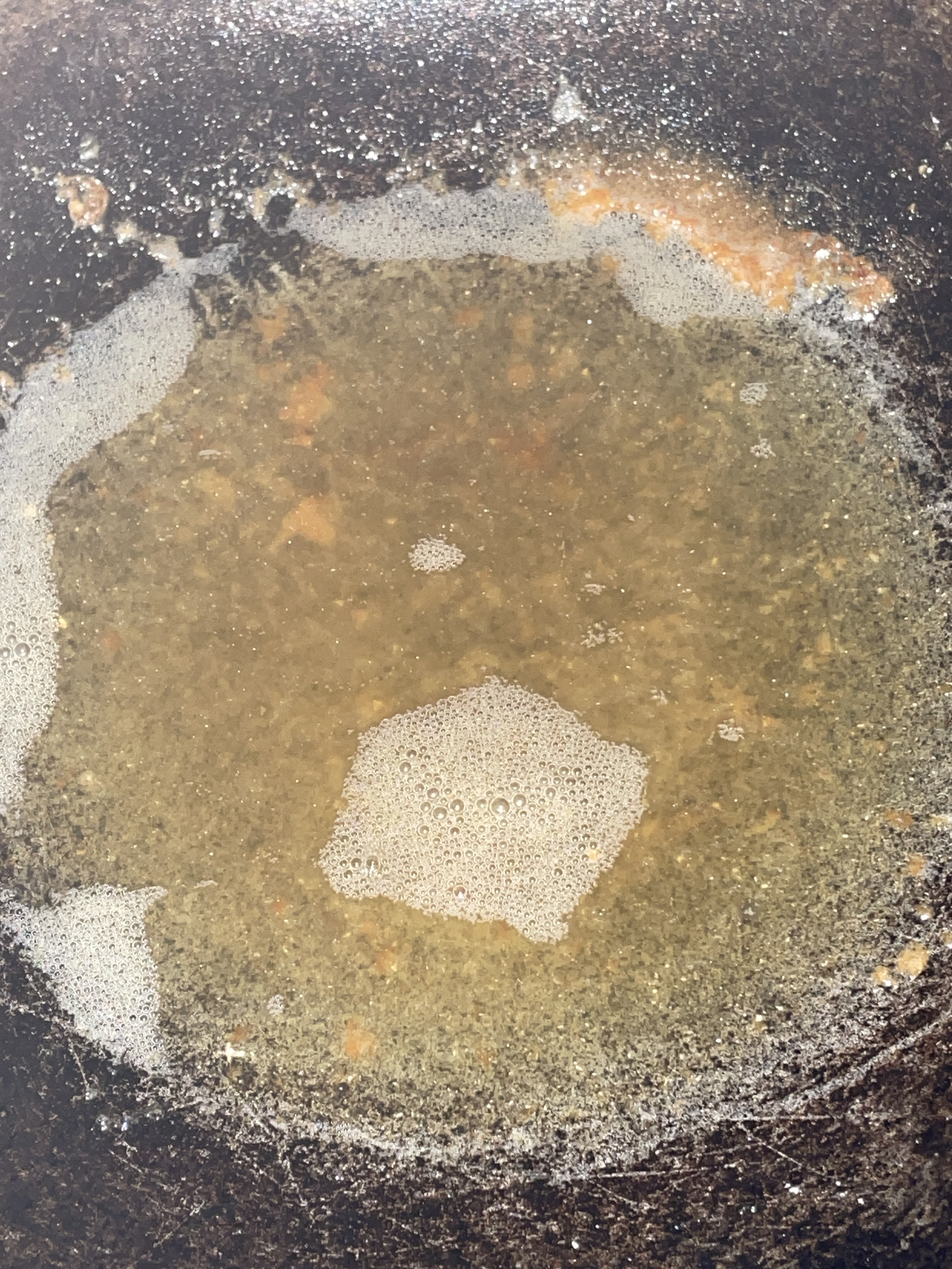non-reusable: (0, 189, 952, 1152)
